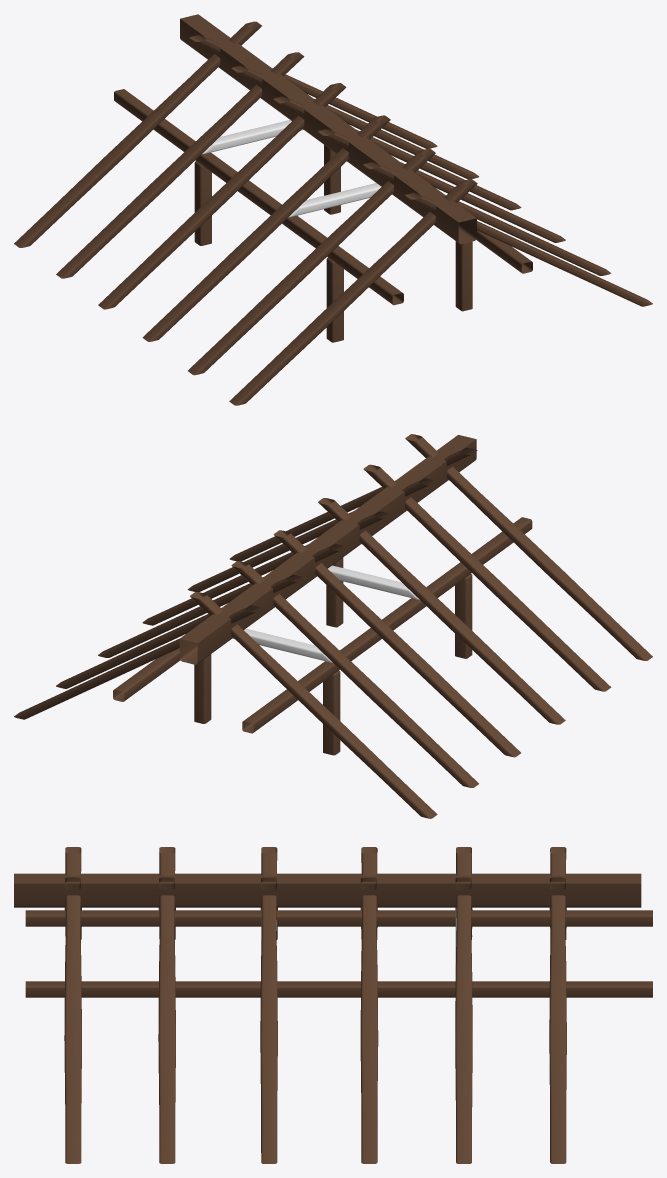
Rendered from BEAMS.fbx.
3 renders of one model, top to bottom at view 1: azimuth 30°, elevation 25°; view 2: azimuth 150°, elevation 25°; view 3: azimuth 270°, elevation 25°, orthographic. The views are drawn at different scales.
Visible parts, largest first — view 1: DIAGONAL ROOF WOOD; view 2: DIAGONAL ROOF WOOD; view 3: DIAGONAL ROOF WOOD.
Part boxes in pixels (x1,y1,x2,y2): DIAGONAL ROOF WOOD: (14,14,652,405); DIAGONAL ROOF WOOD: (14,434,652,818); DIAGONAL ROOF WOOD: (14,847,652,1163).
Bounding box in the file's own units: 540 × 203 × 635.
